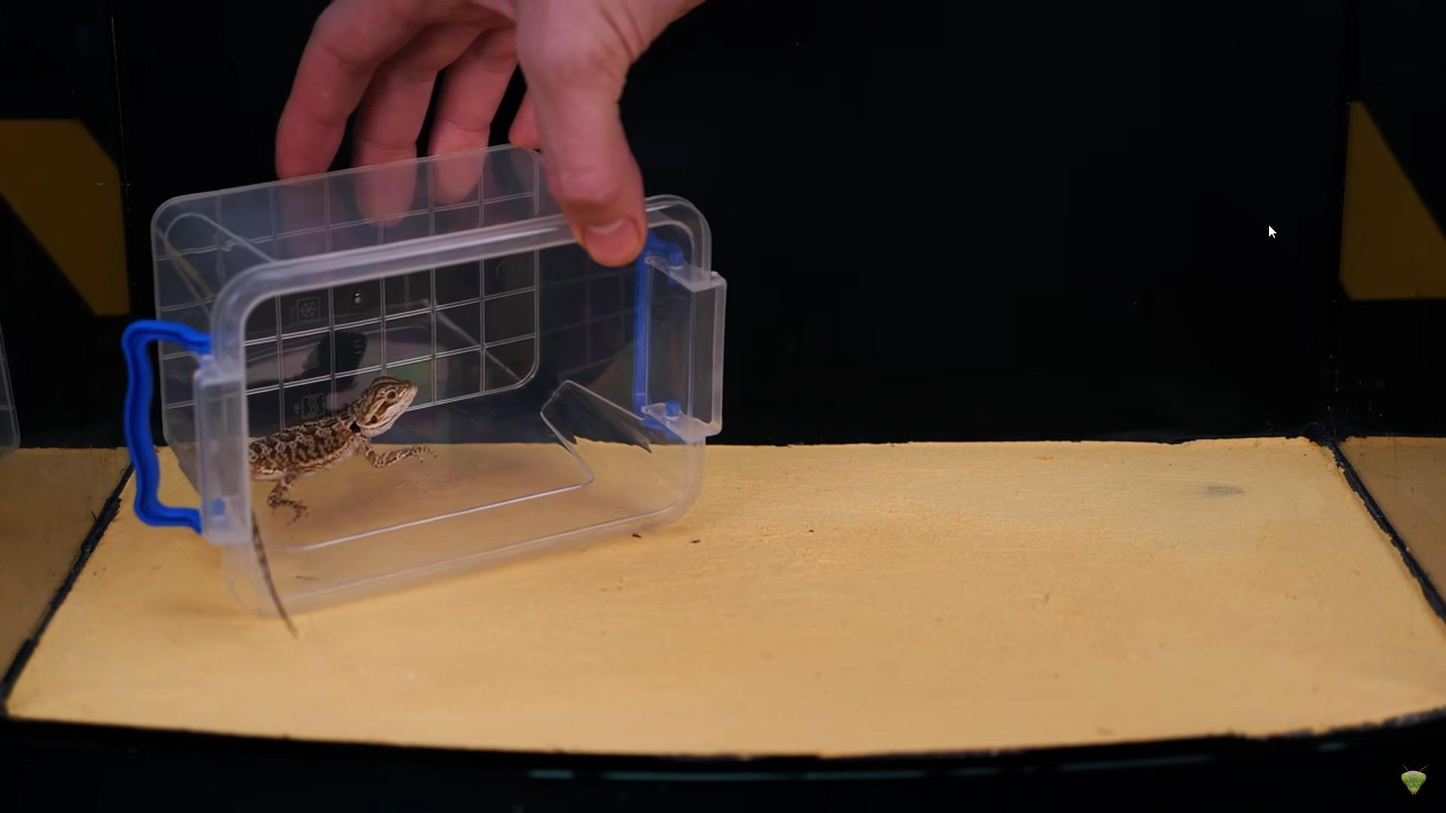lizard: (244, 372, 441, 523)
